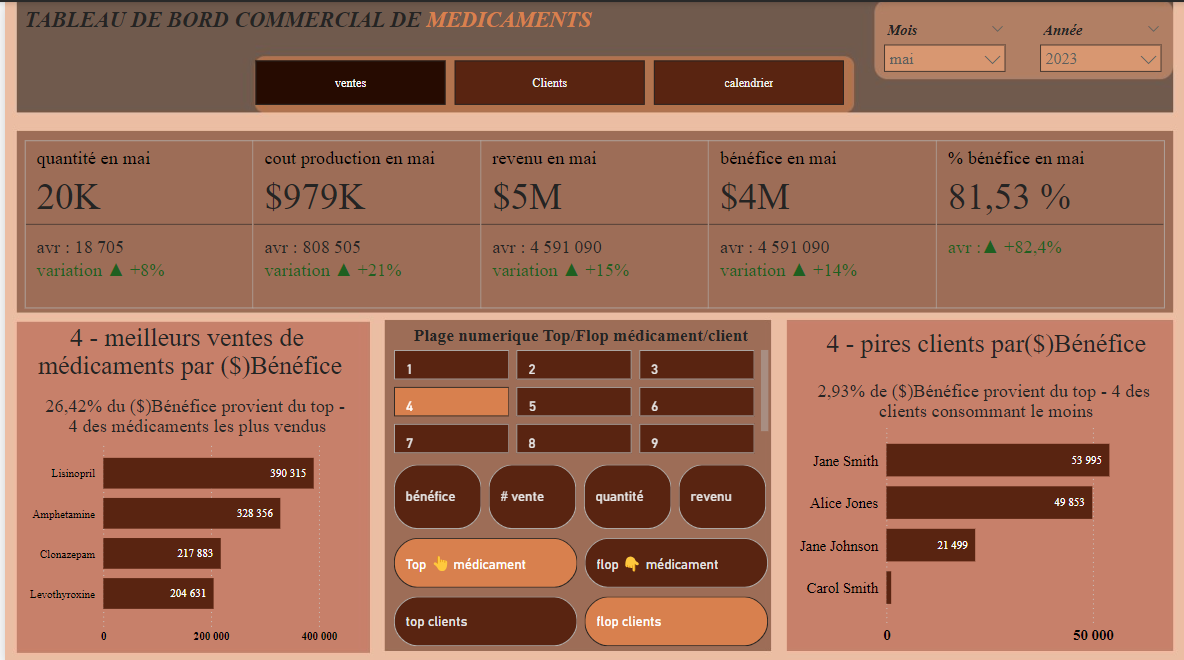

Layout of this report page (visuals, bound fields, positions):
{"tool":"powerbi","page":{"name":"ventes","canvas":[1280,720],"ordinal":0},"visuals":[{"type":"slicer","title":"Mois","fields":{"Values":["date.Mois"]},"box":[944,16,151.6,64],"z":0,"group":"g1"},{"type":"cardVisual","fields":{"Data":["_mesures.quantité vendue","_mesures.coût total production","_mesures.revenu total","_mesures.bénéfice","_mesures.marge bénéficiaire"]},"box":[16,144,1248,192],"z":0},{"type":"slicer","title":"Année","fields":{"Values":["date.Année"]},"box":[1112.4,16,151.6,64],"z":1000,"group":"g1"},{"type":"advancedSlicerVisual","title":"Plage numerique Top/Flop médicament/client","fields":{"Values":["top👆/flop👇.top👆/flop👇"]},"box":[416,352,416,144],"z":1000},{"type":"advancedSlicerVisual","fields":{"Values":["switch top/flop medicaments.switch top/flop medicaments"]},"box":[416,576,416,64],"z":2000},{"type":"advancedSlicerVisual","fields":{"Values":["KIP.KIP"]},"box":[416,496,416,80],"z":3000},{"type":"clusteredBarChart","fields":{"Y":["_mesures.top médicament"],"Category":["DrugLookup.DrugName"]},"box":[16,464,384,240],"z":4000},{"type":"card","fields":{"Values":["_mesures.titre: medicament"]},"box":[16,336,368,80],"z":5000},{"type":"card","fields":{"Values":["_mesures.legende médicament"]},"box":[16,416,384,64],"z":6000},{"type":"clusteredBarChart","fields":{"Y":["_mesures.flop clients"],"Category":["CustomerTable.FullName"]},"box":[848,448,416,256],"z":7000},{"type":"advancedSlicerVisual","fields":{"Values":["Top/Flop Clients.Top/Flop Clients"]},"box":[416,640,416,64],"z":8000},{"type":"card","fields":{"Values":["_mesures.titre: client"]},"box":[848,336,432,64],"z":9000},{"type":"card","fields":{"Values":["_mesures.legende client"]},"box":[848,400,432,64],"z":10000},{"type":"group","id":"g1","title":"Mois/Année","box":[944,16,320,64],"z":11000},{"type":"textbox","box":[16,0,704,48],"z":12000},{"type":"pageNavigator","box":[272,64,640,48],"z":12001}]}

Visuals, with their boxes in screenshot pixels (x1, y1, x2, y2), scaled from the page's 1280x720 canvas onto the 1184x660 screenshot:
"Mois" slicer: [x1=873, y1=15, x2=1013, y2=73]
cardVisual - _mesures.quantité vendue x _mesures.coût total production: [x1=15, y1=132, x2=1169, y2=308]
"Année" slicer: [x1=1029, y1=15, x2=1169, y2=73]
"Plage numerique Top/Flop médicament/client" advancedSlicerVisual: [x1=385, y1=323, x2=770, y2=455]
advancedSlicerVisual - switch top/flop medicaments.switch top/flop medicaments: [x1=385, y1=528, x2=770, y2=587]
advancedSlicerVisual - KIP.KIP: [x1=385, y1=455, x2=770, y2=528]
clusteredBarChart - _mesures.top médicament x DrugLookup.DrugName: [x1=15, y1=425, x2=370, y2=645]
card - _mesures.titre: medicament: [x1=15, y1=308, x2=355, y2=381]
card - _mesures.legende médicament: [x1=15, y1=381, x2=370, y2=440]
clusteredBarChart - _mesures.flop clients x CustomerTable.FullName: [x1=784, y1=411, x2=1169, y2=645]
advancedSlicerVisual - Top/Flop Clients.Top/Flop Clients: [x1=385, y1=587, x2=770, y2=645]
card - _mesures.titre: client: [x1=784, y1=308, x2=1183, y2=367]
card - _mesures.legende client: [x1=784, y1=367, x2=1183, y2=425]
"Mois/Année" group: [x1=873, y1=15, x2=1169, y2=73]
textbox: [x1=15, y1=0, x2=666, y2=44]
pageNavigator: [x1=252, y1=59, x2=844, y2=103]
